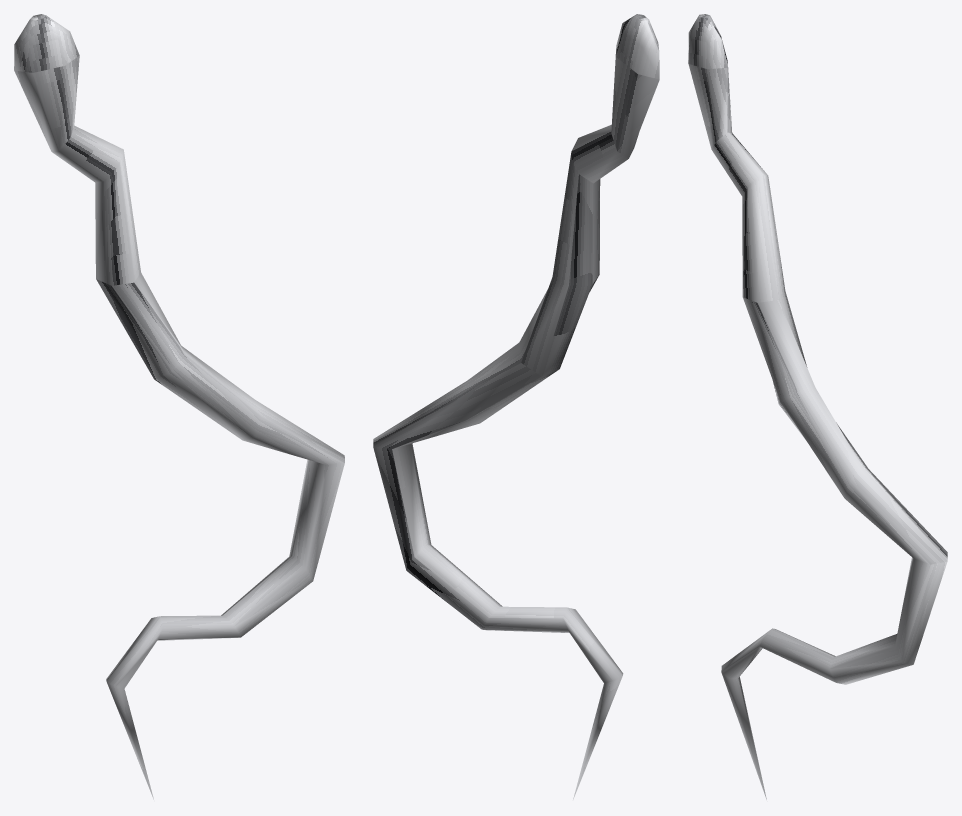
The model's file is snake_000007.obj.
3 renders of one model, left to right at view 1: azimuth 30°, elevation 25°; view 2: azimuth 150°, elevation 25°; view 3: azimuth 330°, elevation 25°, orthographic. The views are drawn at different scales.
Parts seen in each view (by area): view 1: Cylinder; view 2: Cylinder; view 3: Cylinder.
Boxes of the visible parts, bbox=[...] form: Cylinder: bbox=[14, 14, 344, 799]; Cylinder: bbox=[373, 14, 659, 799]; Cylinder: bbox=[688, 14, 947, 799].
Bounding box in the file's own units: 3.19 × 7.97 × 0.7571.
